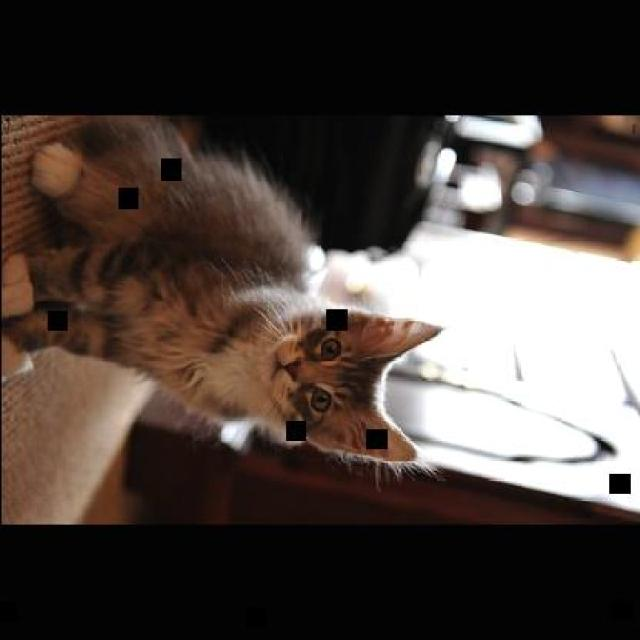unauthorized: (2, 113, 444, 484)
